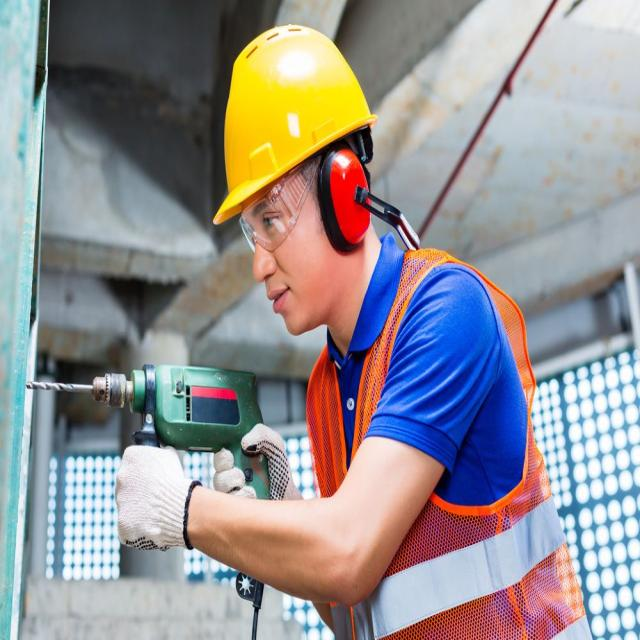goggles: (228, 156, 324, 252)
helmet: (210, 21, 380, 222)
vest: (293, 244, 584, 640)
